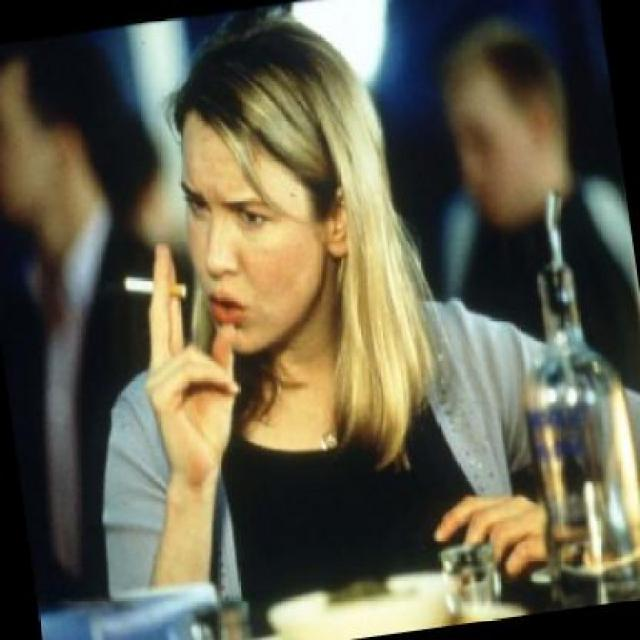smoke: (120, 266, 188, 306)
